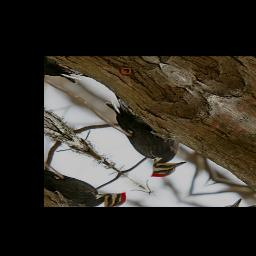Woodpecker: (68, 93, 205, 182)
